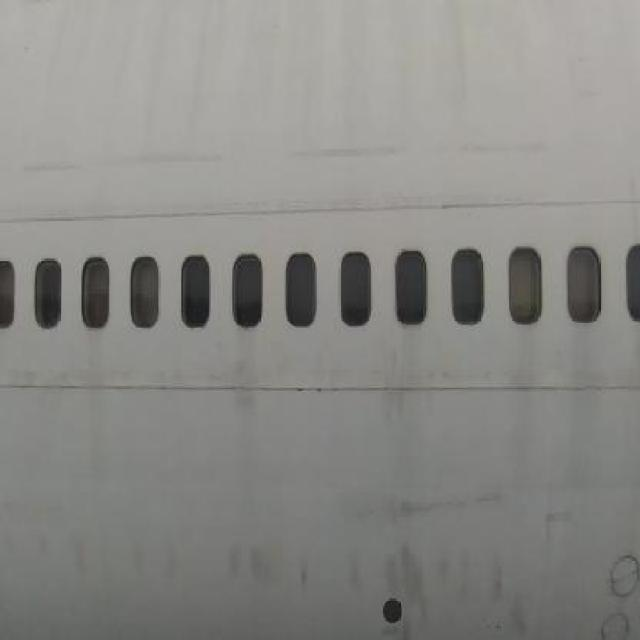Scartch: (343, 534, 534, 640), (18, 136, 230, 192), (345, 482, 510, 530), (222, 531, 316, 615), (431, 126, 560, 174), (34, 510, 94, 604), (290, 132, 412, 176), (126, 528, 189, 607), (542, 497, 582, 555)
